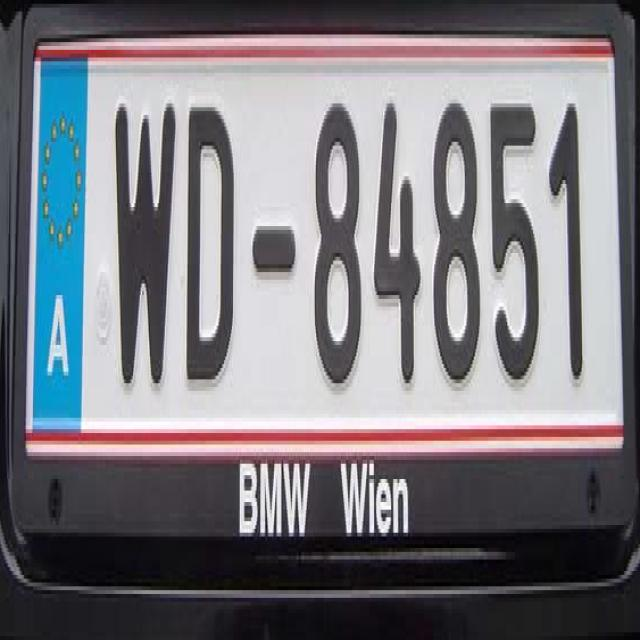Autre: (28, 39, 636, 551)
Autriche: (28, 39, 90, 445)
